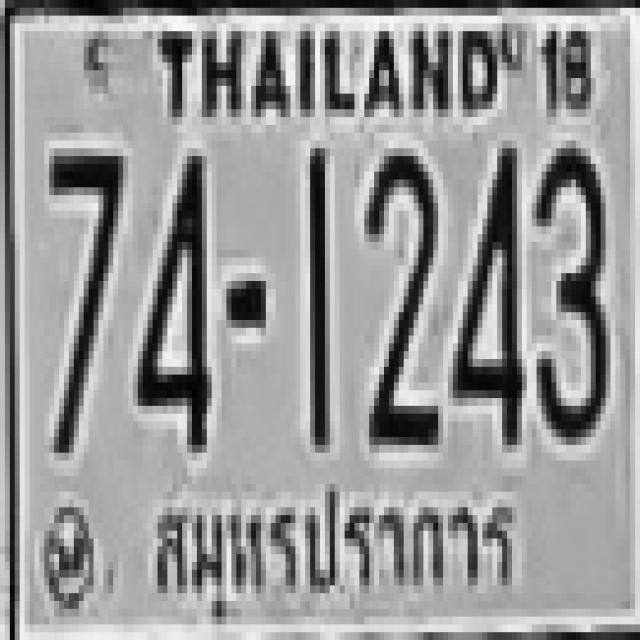1: (303, 148, 327, 445)
2: (364, 152, 434, 441)
3: (532, 141, 606, 437)
4: (133, 148, 207, 445), (448, 144, 522, 441)
7: (46, 148, 120, 453), (46, 145, 120, 355)
SamutPrakan: (139, 466, 529, 620)
